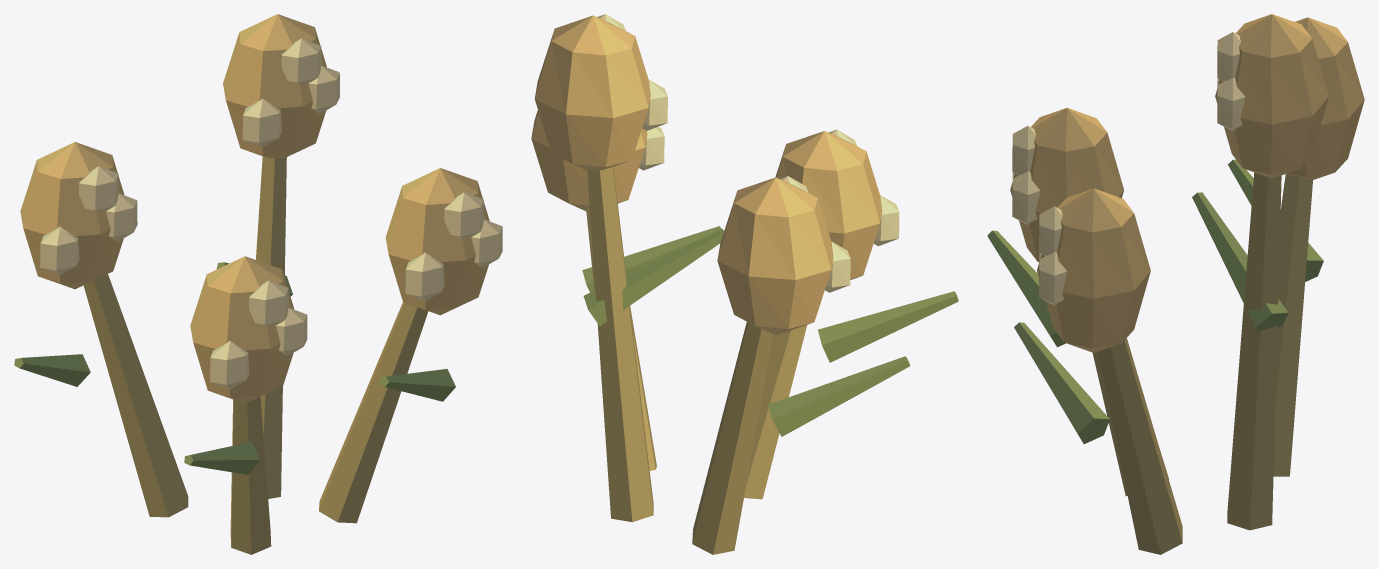
File: find_seeds.glb
3 renders of one model, left to right at view 1: azimuth 30°, elevation 25°; view 2: azimuth 150°, elevation 25°; view 3: azimuth 270°, elevation 25°, orthographic. The views are drawn at different scales.
Parts seen in each view (by area): view 1: Wilde Samenstände; view 2: Wilde Samenstände; view 3: Wilde Samenstände.
Part boxes in pixels (left/top/right/bottom): Wilde Samenstände: left=14, top=14, right=502, bottom=554; Wilde Samenstände: left=531, top=14, right=958, bottom=554; Wilde Samenstände: left=987, top=14, right=1364, bottom=554.
Bounding box in the file's own units: 0.5995 × 0.6508 × 0.4237.
